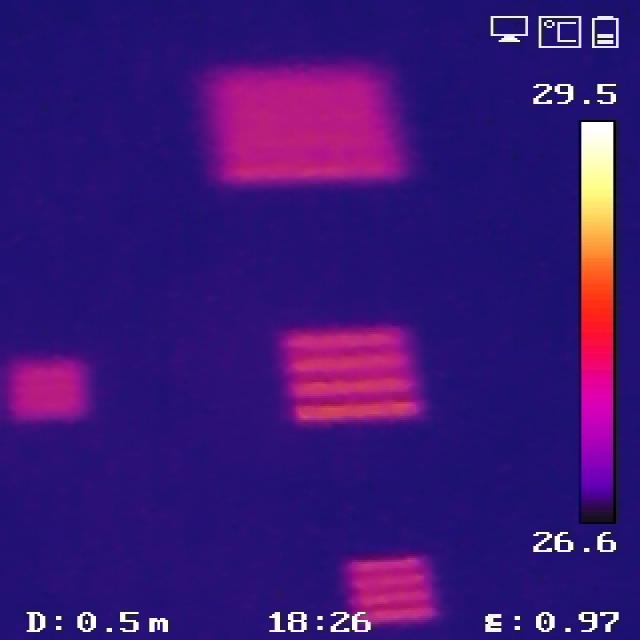Indistinguishable 4-bar target: (200, 65, 401, 183), (8, 361, 96, 420)
threshold 4-bar target: (275, 323, 425, 425), (344, 555, 437, 623)
